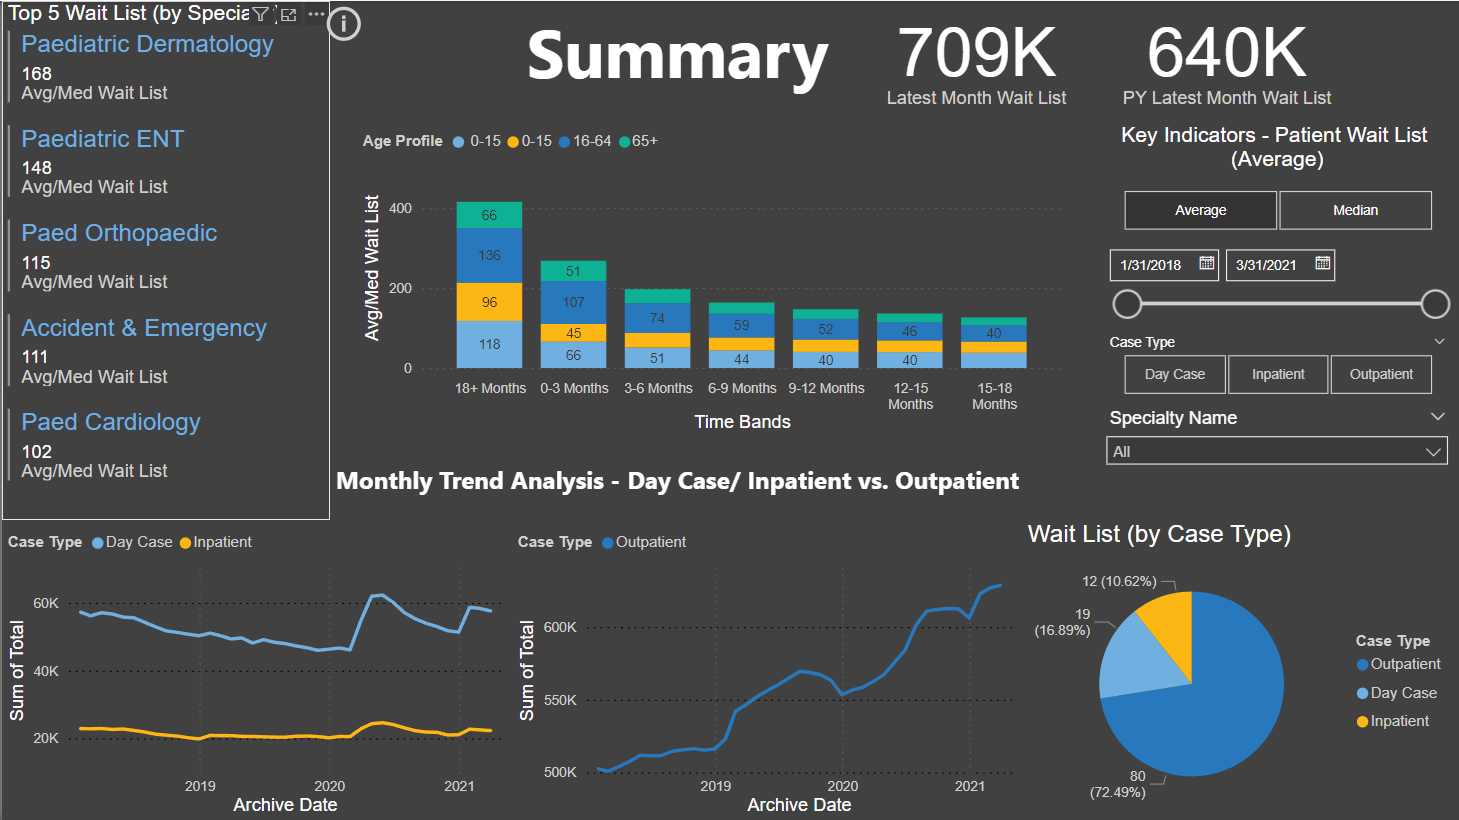

This screenshot's page, from the dashboard's own definition file:
{"tool":"powerbi","page":{"name":"Summary Page","canvas":[1280,720],"ordinal":0},"visuals":[{"type":"card","fields":{"Values":["All_Data.Latest Month Wait List"]},"box":[752,0,208,96],"z":0},{"type":"card","fields":{"Values":["All_Data.PY Latest Month Wait List"]},"box":[960,0,232,96],"z":1000},{"type":"slicer","fields":{"Values":["Calculation Method.Calc Method"]},"box":[960,160,320,48],"z":2000},{"type":"pieChart","title":"Wait List (by Case Type)","fields":{"Category":["All_Data.Case_Type"],"Y":["All_Data.Avg/Med Wait List"]},"box":[896,456,384,264],"z":3000},{"type":"columnChart","fields":{"Y":["All_Data.Avg/Med Wait List"],"Category":["All_Data.Time_Bands"],"Series":["All_Data.Age_Profile"]},"box":[312,104,624,280],"z":4000},{"type":"multiRowCard","title":"Top 5 Wait List (by Specialty)","fields":{"Values":["All_Data.Avg/Med Wait List","All_Data.Specialty_Name"]},"box":[0,0,288,456],"z":5000},{"type":"card","fields":{"Values":["All_Data.No Data Left"]},"box":[0,464,440,248],"z":6000},{"type":"lineChart","fields":{"Category":["All_Data.Archive_Date"],"Y":["Sum(All_Data.Total)"],"Series":["All_Data.Case_Type"]},"box":[0,456,448,264],"z":7000},{"type":"card","fields":{"Values":["All_Data.No Data Right"]},"box":[456,472,440,248],"z":8000},{"type":"lineChart","fields":{"Category":["All_Data.Archive_Date"],"Y":["Sum(All_Data.Total)"],"Series":["All_Data.Case_Type"]},"box":[448,456,448,264],"z":9000},{"type":"slicer","fields":{"Values":["All_Data.Archive_Date"]},"box":[960,208,320,80],"z":10000},{"type":"slicer","fields":{"Values":["All_Data.Case_Type"]},"box":[960,288,320,64],"z":11000},{"type":"slicer","fields":{"Values":["All_Data.Specialty_Name"]},"box":[960,352,320,80],"z":12000},{"type":"textbox","box":[456,0,328,88],"z":13000},{"type":"card","fields":{"Values":["All_Data.Dyanmic Title"]},"box":[960,88,320,80],"z":14000},{"type":"actionButton","box":[280,0,96,40],"z":15000},{"type":"textbox","box":[288,400,672,48],"z":16000}]}

Visuals, with their boxes in screenshot pixels (x1, y1, x2, y2), scaled from the page's 1280x720 canvas onto the 1459x820 screenshot:
card - All_Data.Latest Month Wait List: box=[857, 0, 1094, 109]
card - All_Data.PY Latest Month Wait List: box=[1094, 0, 1359, 109]
slicer - Calculation Method.Calc Method: box=[1094, 182, 1458, 237]
"Wait List (by Case Type)" pieChart: box=[1021, 519, 1458, 819]
columnChart - All_Data.Avg/Med Wait List x All_Data.Time_Bands: box=[356, 118, 1067, 437]
"Top 5 Wait List (by Specialty)" multiRowCard: box=[0, 0, 328, 519]
card - All_Data.No Data Left: box=[0, 528, 502, 811]
lineChart - All_Data.Archive_Date x Sum(All_Data.Total): box=[0, 519, 511, 819]
card - All_Data.No Data Right: box=[520, 538, 1021, 819]
lineChart - All_Data.Archive_Date x Sum(All_Data.Total): box=[511, 519, 1021, 819]
slicer - All_Data.Archive_Date: box=[1094, 237, 1458, 328]
slicer - All_Data.Case_Type: box=[1094, 328, 1458, 401]
slicer - All_Data.Specialty_Name: box=[1094, 401, 1458, 492]
textbox: box=[520, 0, 894, 100]
card - All_Data.Dyanmic Title: box=[1094, 100, 1458, 191]
actionButton: box=[319, 0, 429, 46]
textbox: box=[328, 456, 1094, 510]
